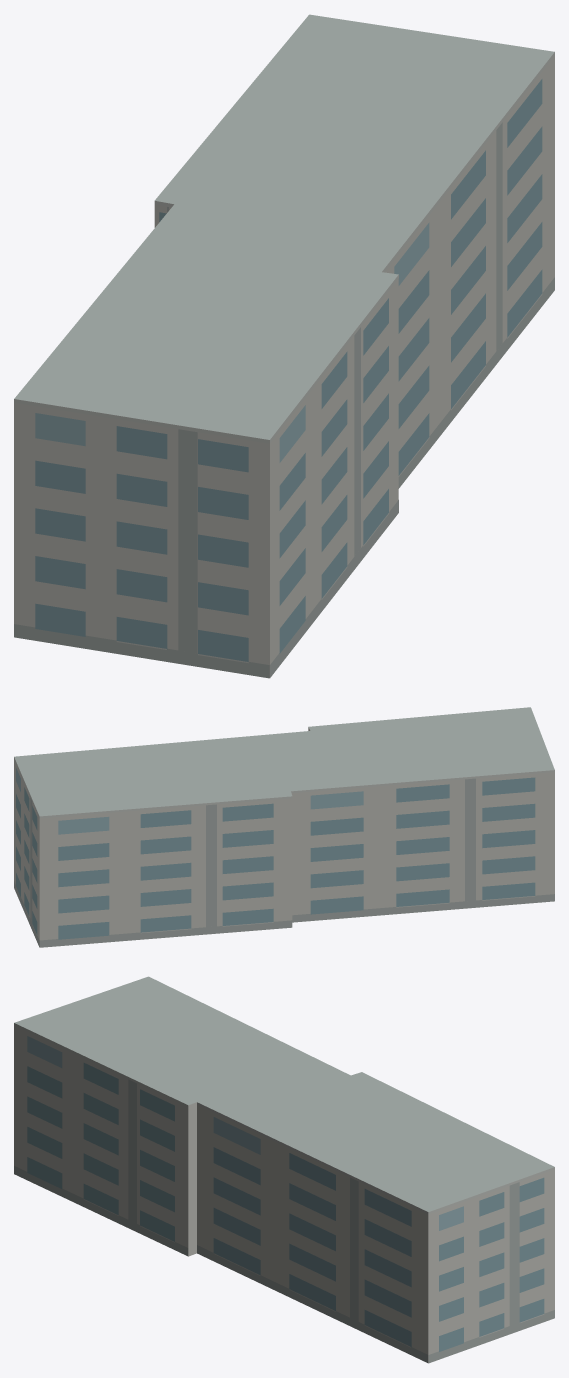
The model's file is survey-upis-32503110.glb.
3 views of the same model, one above another, from view 1: azimuth 30°, elevation 25°; view 2: azimuth 150°, elevation 25°; view 3: azimuth 270°, elevation 25° (orthographic). The views are drawn at different scales.
Parts seen in each view (by area): view 1: survey-upis-32503110.tmp; view 2: survey-upis-32503110.tmp; view 3: survey-upis-32503110.tmp.
Boxes of the visible parts, x1,y1,x2,y2 form: survey-upis-32503110.tmp: [14, 14, 554, 678]; survey-upis-32503110.tmp: [14, 707, 554, 947]; survey-upis-32503110.tmp: [14, 976, 554, 1363].
Size of the model in its own units: 50.97 by 15.25 by 49.43.
